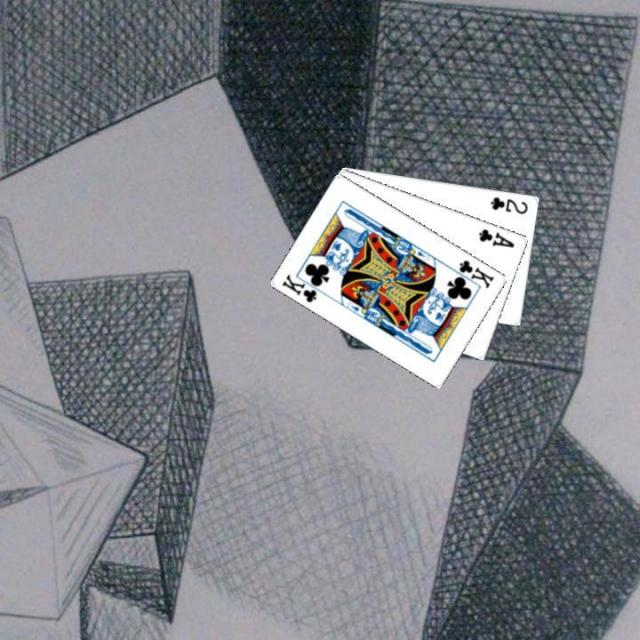2C: (487, 193, 530, 215)
AC: (474, 225, 516, 250)
KC: (278, 270, 327, 304), (448, 256, 496, 290)
